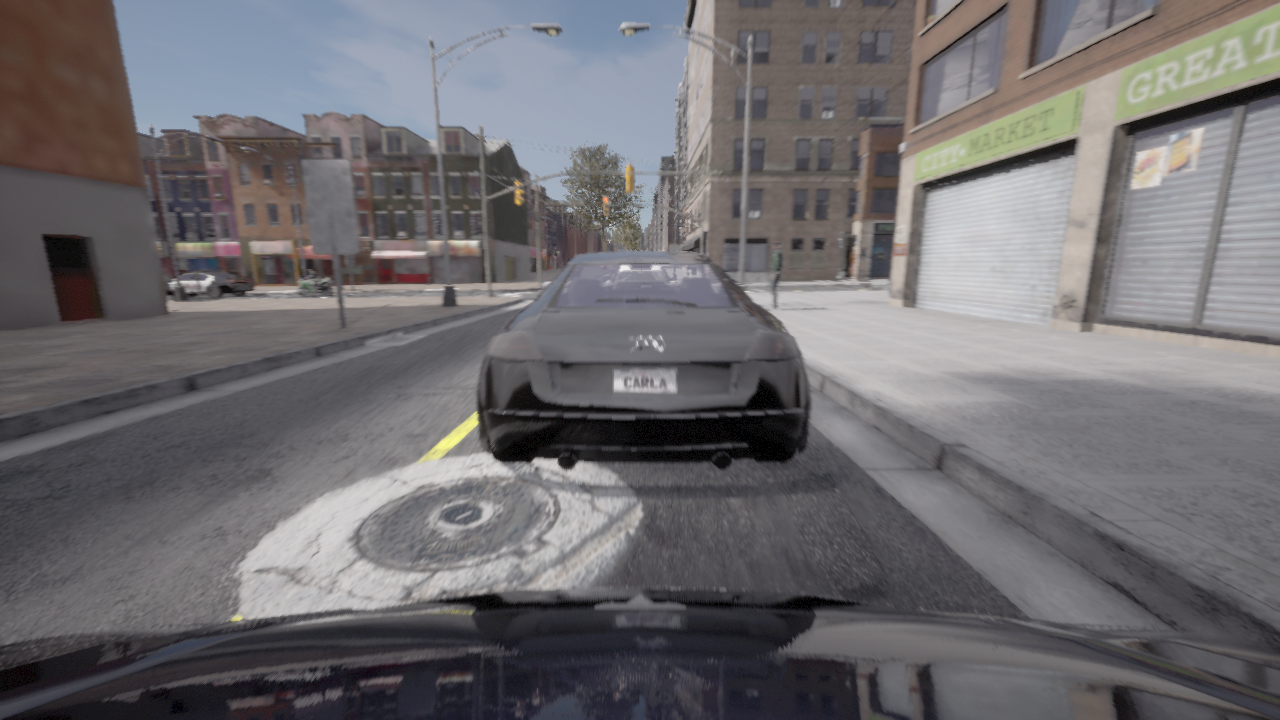cyclist: (0, 588, 1279, 719), (476, 252, 810, 470), (164, 270, 255, 298), (297, 276, 333, 295)
pedestrian: (767, 241, 782, 310)
